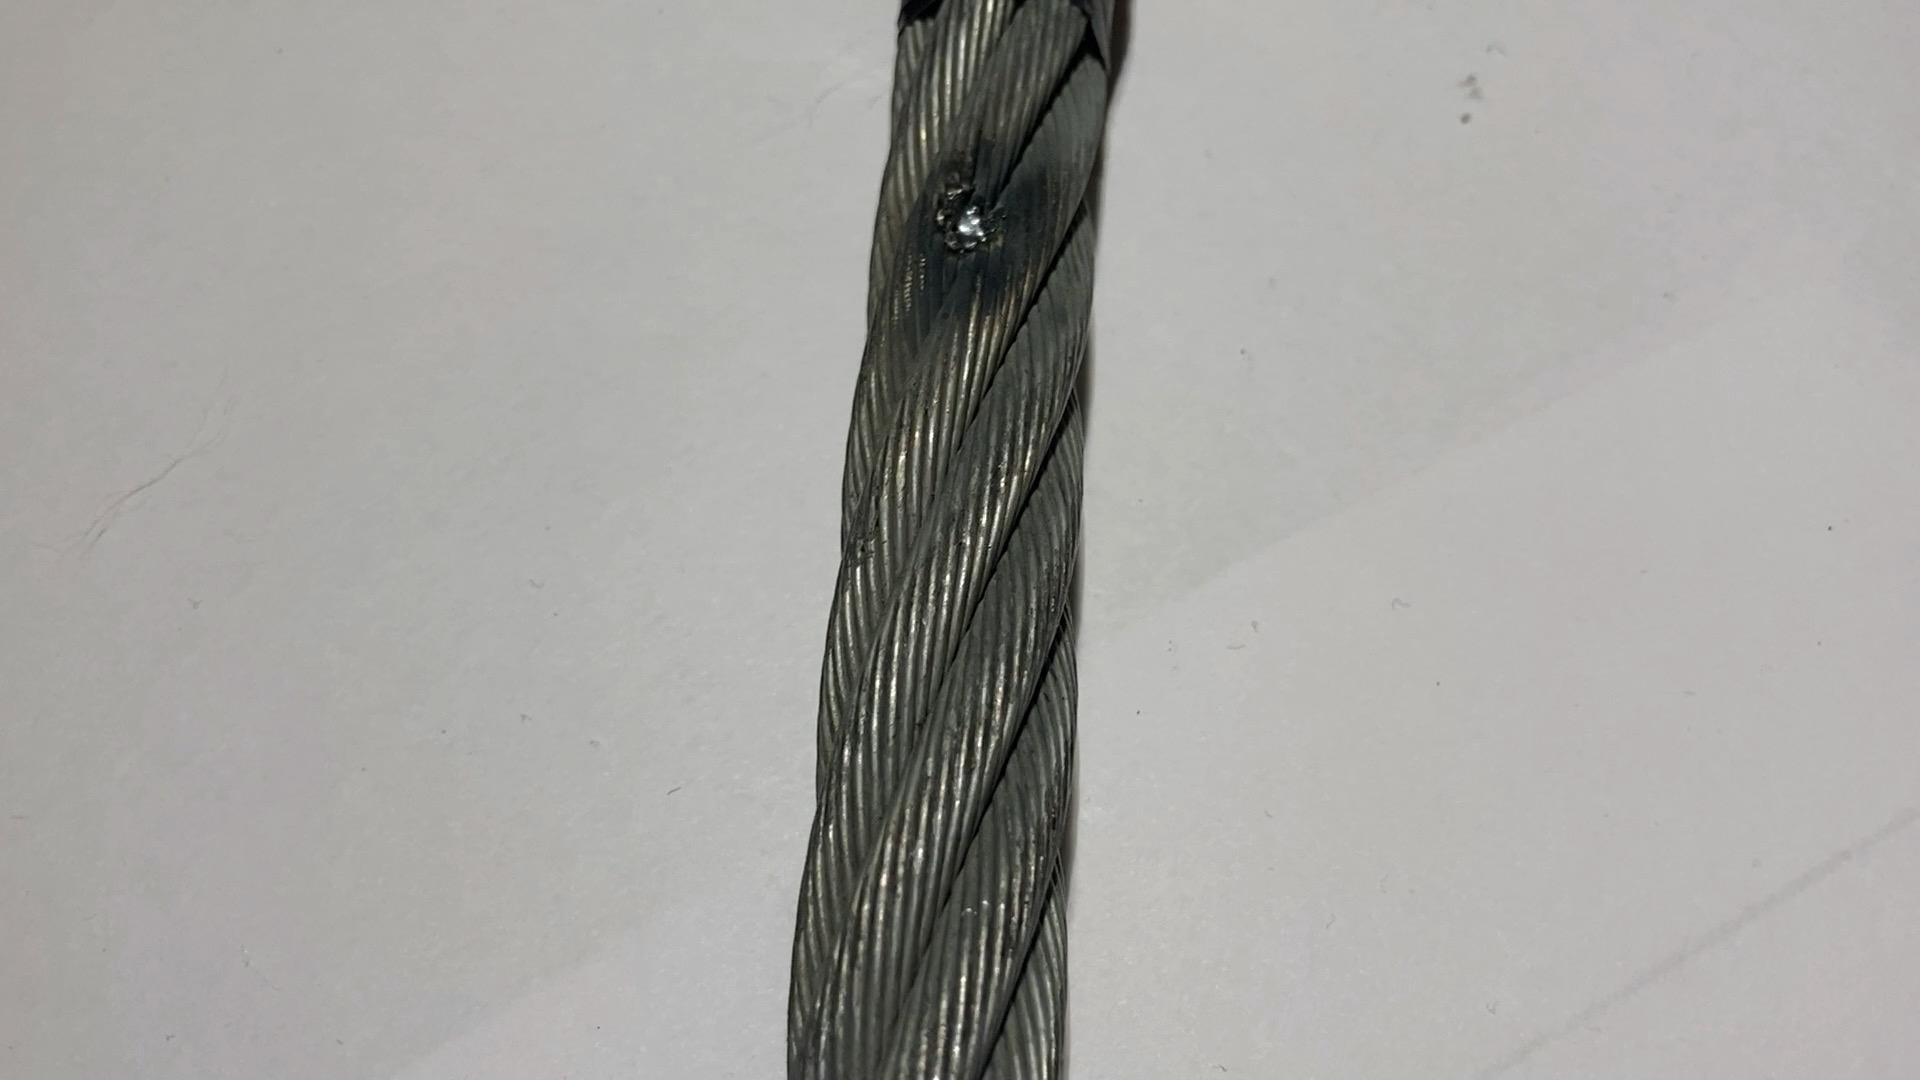thunderbolt: (928, 187, 1038, 266)
